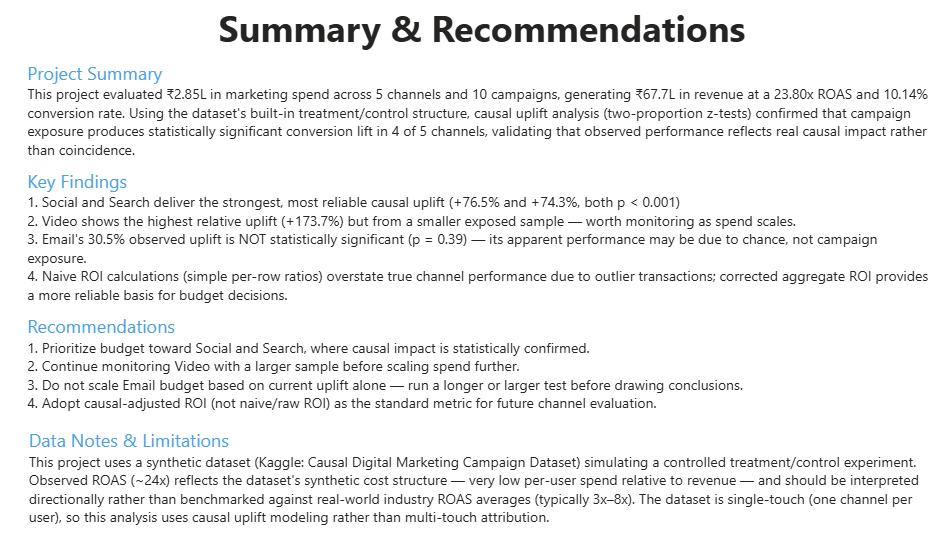

This screenshot's page, from the dashboard's own definition file:
{"tool":"powerbi","page":{"name":"Summary & Recommendations","canvas":[1280,720],"ordinal":5},"visuals":[{"type":"textbox","box":[9.9,0,1270.5,76.2],"z":0},{"type":"textbox","box":[0,76.2,1280.5,56.3],"z":1},{"type":"textbox","box":[34.8,76.2,1214.2,144.1],"z":2},{"type":"textbox","box":[34.8,220.3,1214.2,193.8],"z":3},{"type":"textbox","box":[34.8,414.1,1214.2,140.8],"z":4},{"type":"textbox","box":[35,565,1214,150],"z":5}]}

Visuals, with their boxes in screenshot pixels (x1, y1, x2, y2), scaled from the page's 1280x720 canvas onto the 952x535 screenshot:
textbox: <box>7,0,951,57</box>
textbox: <box>0,57,951,98</box>
textbox: <box>26,57,929,164</box>
textbox: <box>26,164,929,308</box>
textbox: <box>26,308,929,412</box>
textbox: <box>26,420,929,531</box>
